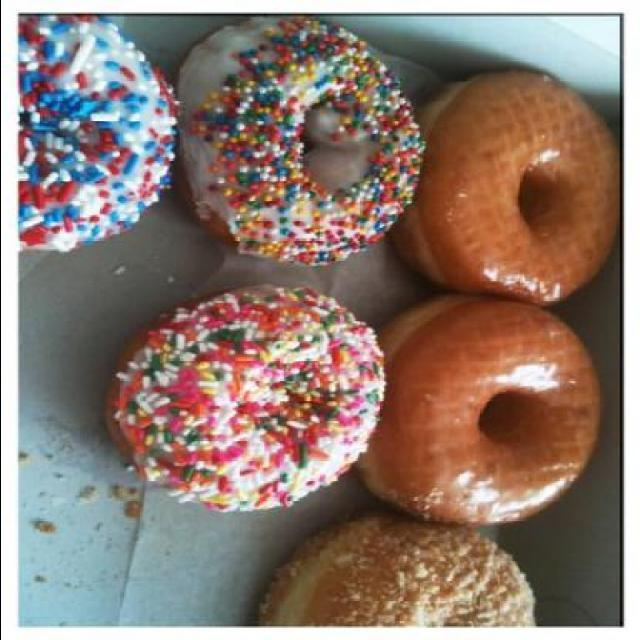Donuts: (2, 17, 620, 635)
